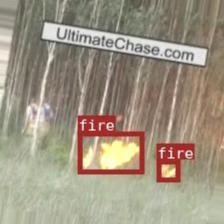fire: (76, 130, 143, 173), (156, 159, 179, 181)
